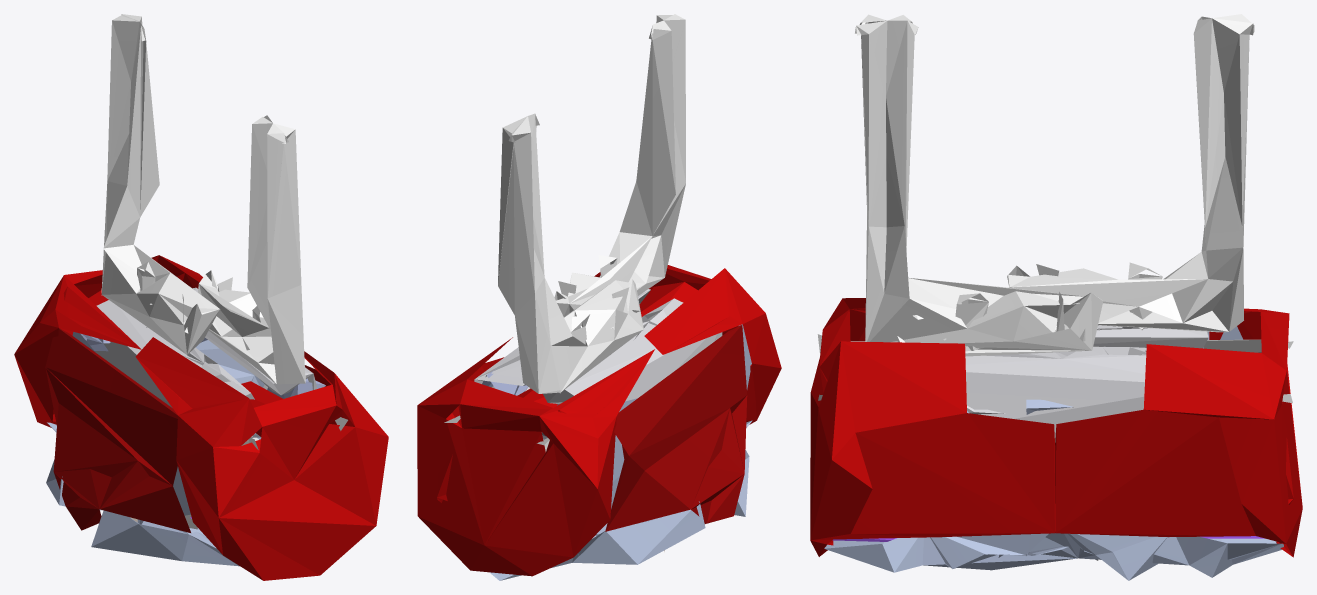
File: electric_gripper_w_fingers_decimate.dae
The picture shows the model from 3 angles, left to right: view 1: azimuth 30°, elevation 25°; view 2: azimuth 150°, elevation 25°; view 3: azimuth 270°, elevation 25°; orthographic projection. The views are drawn at different scales.
Parts seen in each view (by area): view 1: _0030517_001; view 2: _0030517_001; view 3: _0030517_001.
Boxes of the visible parts, x1,y1,x2,y2 form: _0030517_001: (14,14,388,580); _0030517_001: (417,14,781,580); _0030517_001: (810,14,1302,580).
Bounding box in the file's own units: 0.0653 × 0.1021 × 0.1216.
